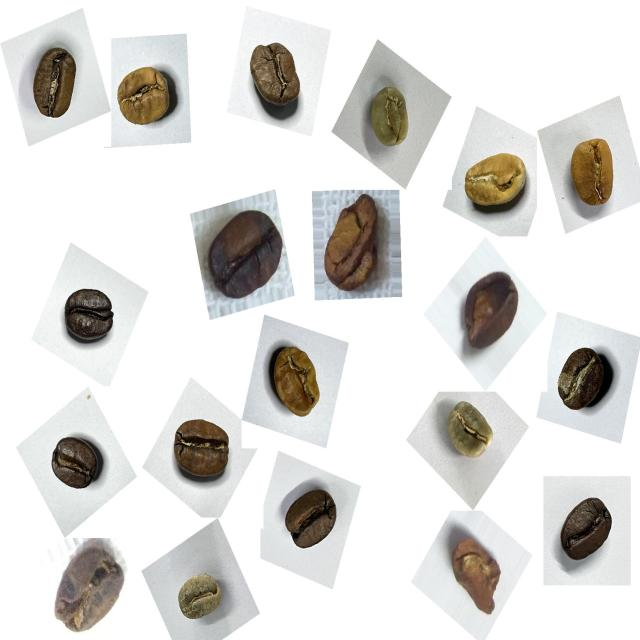bad: (193, 197, 287, 312), (311, 185, 395, 301), (45, 540, 129, 637), (451, 258, 530, 359), (440, 524, 512, 624)
dark: (273, 472, 345, 563), (38, 424, 112, 507), (50, 273, 124, 355)
green: (356, 76, 421, 160), (433, 394, 502, 471), (170, 562, 229, 633)
light: (454, 137, 537, 230), (257, 329, 332, 428), (555, 120, 626, 219)
medium: (238, 33, 315, 123), (107, 55, 186, 142), (21, 38, 94, 130), (550, 486, 624, 575), (167, 404, 240, 492), (549, 334, 623, 420)
